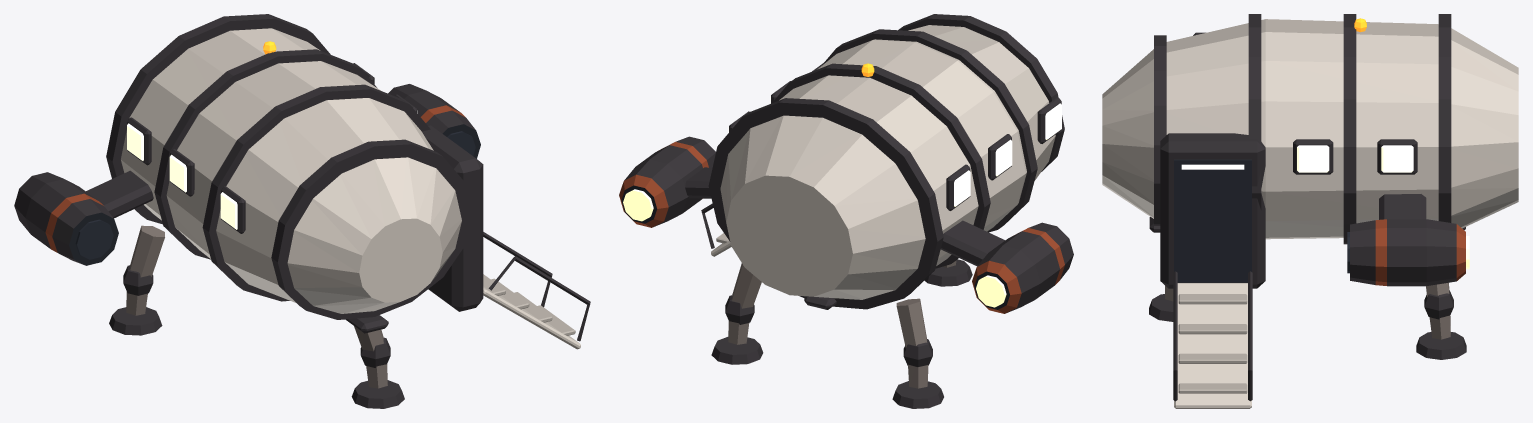
Rendered from emb-p_offen.glb.
3 renders of one model, left to right at view 1: azimuth 30°, elevation 25°; view 2: azimuth 150°, elevation 25°; view 3: azimuth 270°, elevation 25°, orthographic. The views are drawn at different scales.
Parts seen in each view (by area): view 1: kapsel, rahmen, triebwerk_r, türmodul, landebein_3, treppe, fenster, landebein_1, triebwerk_l, ausleger; view 2: kapsel, rahmen, triebwerk_r, triebwerk_l, landebein_3, landebein_2, fenster, ausleger, landebein_1, treppe; view 3: kapsel, treppe, rahmen, türöffnung, triebwerk_l, türmodul, fenster, landebein_2, ausleger, landebein_1.
Part boxes in pixels (<box>): kapsel: <box>121,28,461,313</box>; rahmen: <box>106,14,471,333</box>; triebwerk_r: <box>14,172,118,265</box>; türmodul: <box>422,125,483,311</box>; landebein_3: <box>109,225,164,335</box>; treppe: <box>483,232,590,349</box>; fenster: <box>127,63,417,233</box>; landebein_1: <box>351,326,404,408</box>; triebwerk_l: <box>388,84,480,158</box>; ausleger: <box>86,170,153,218</box>; kapsel: <box>720,25,1055,299</box>; rahmen: <box>708,14,1064,309</box>; triebwerk_r: <box>972,222,1073,313</box>; triebwerk_l: <box>619,136,715,227</box>; landebein_3: <box>892,298,943,408</box>; landebein_2: <box>711,263,763,364</box>; fenster: <box>728,81,1061,210</box>; ausleger: <box>685,167,1004,265</box>; landebein_1: <box>924,259,972,286</box>; treppe: <box>701,203,731,256</box>; kapsel: <box>1102,19,1518,239</box>; treppe: <box>1173,271,1252,408</box>; rahmen: <box>1149,14,1465,244</box>; türöffnung: <box>1174,159,1251,282</box>; triebwerk_l: <box>1347,219,1469,286</box>; türmodul: <box>1160,133,1265,288</box>; fenster: <box>1193,32,1417,174</box>; landebein_2: <box>1416,282,1466,359</box>; ausleger: <box>1379,194,1426,219</box>; landebein_1: <box>1149,285,1173,321</box>.
Bounding box in the file's own units: 0.1179 × 0.075 × 0.0987.
